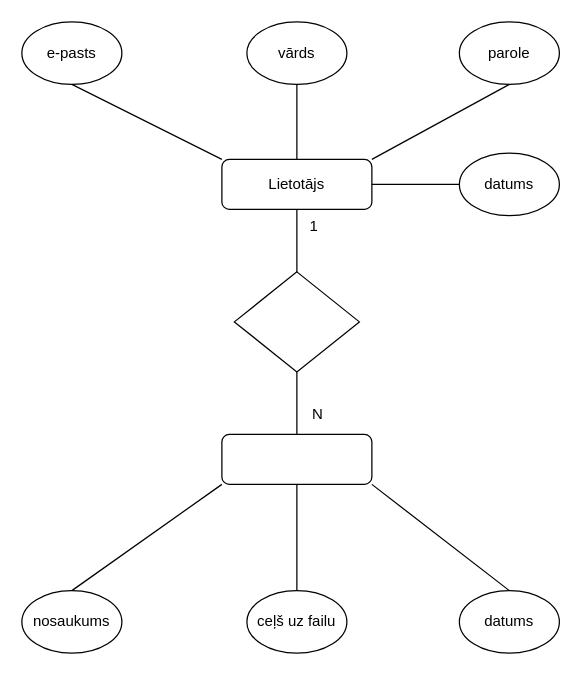
This 581x675 diagram has some shape labels left out. Here are the shapes that lost their labels. From the top down, the centre of each, then its label:
[296,321]: ir
[296,458]: Fotogrāfija
